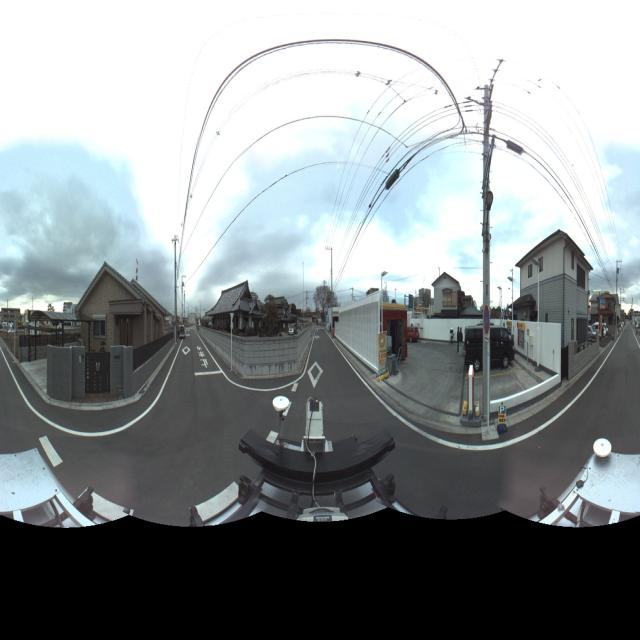b_1: (87, 253, 173, 374), (518, 227, 582, 359), (210, 273, 274, 354), (429, 266, 463, 323), (597, 283, 623, 336)
